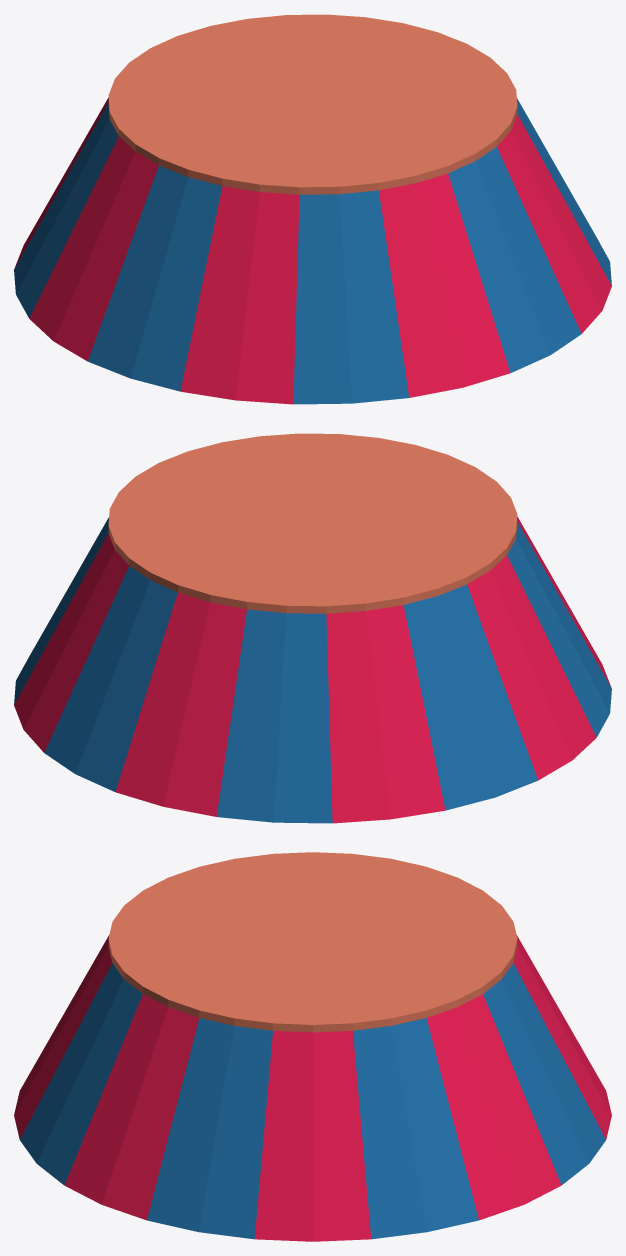
The model's file is platform.fbx.
The picture shows the model from 3 angles, top to bottom: view 1: azimuth 30°, elevation 25°; view 2: azimuth 150°, elevation 25°; view 3: azimuth 270°, elevation 25°; orthographic projection.
Visible parts, largest first — view 1: Cylinder; view 2: Cylinder; view 3: Cylinder.
Part boxes in pixels (box(x1,y1,x2,y2)): Cylinder: box(14, 14, 611, 404); Cylinder: box(14, 433, 611, 823); Cylinder: box(14, 852, 611, 1241).
Size of the model in its own units: 593 by 193 by 593.
